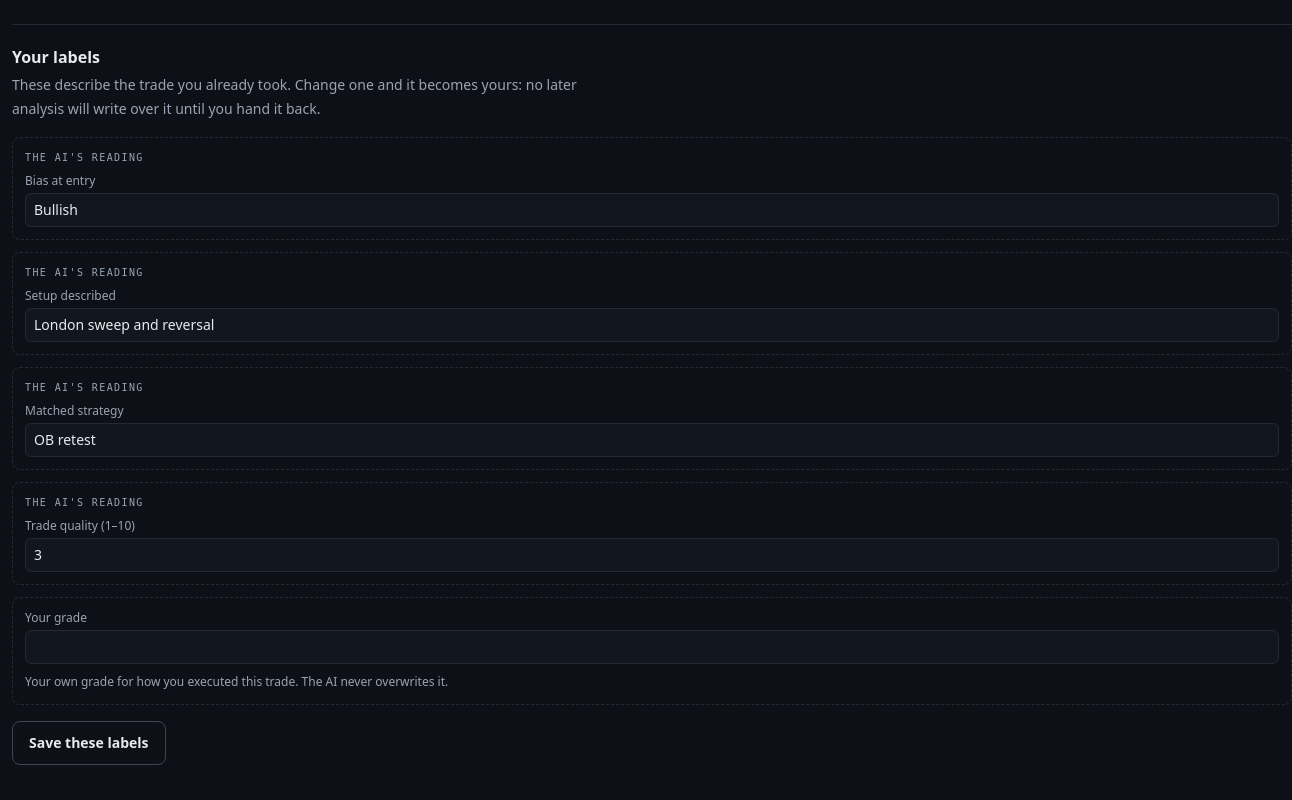
Test: AILabelReview › says a failed save did not go through and keeps every edit
This screenshot has width=1292, height=800.
Replace the text in the field labelled "Bias at entry" with "Bearish": (652,210) [25, 193, 1279, 227]
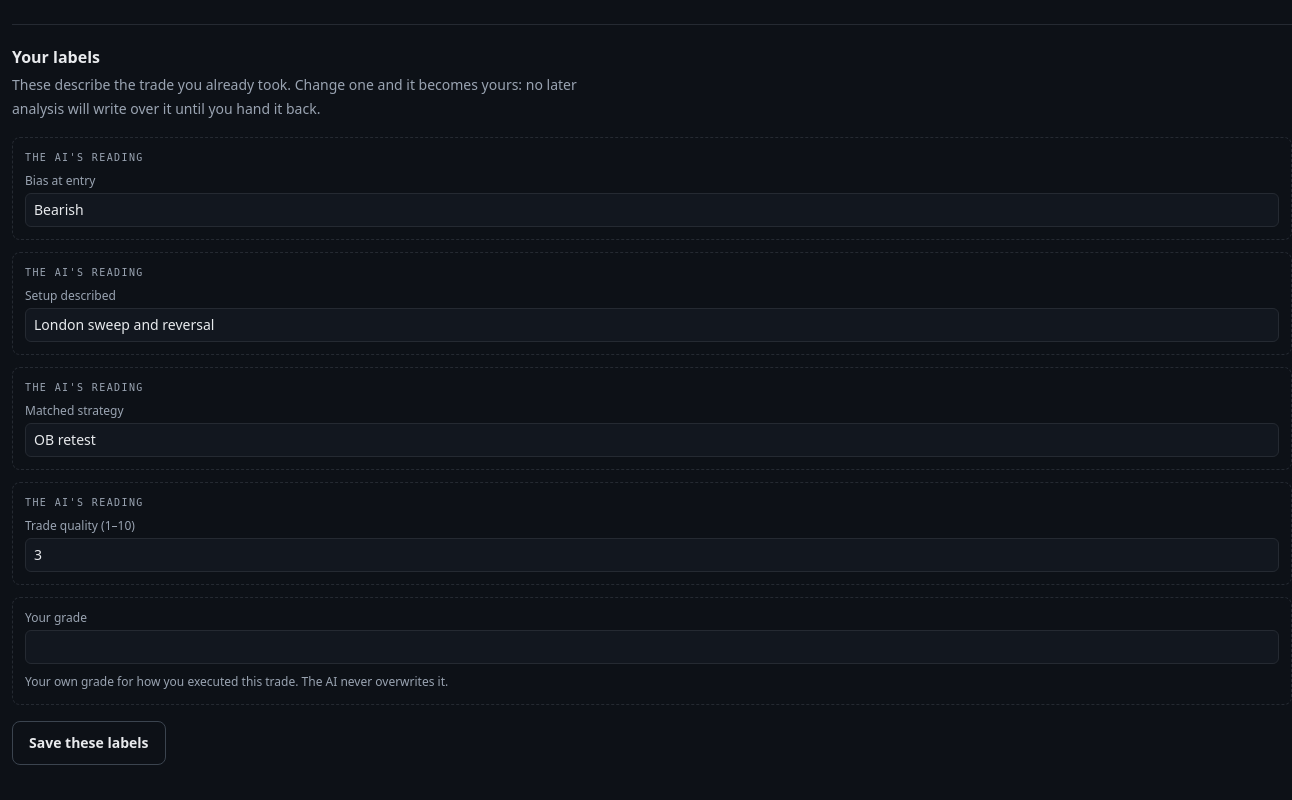
Replace the text in the field labelled "Matched strategy" with "FVG fill": (652,440) [25, 423, 1279, 457]
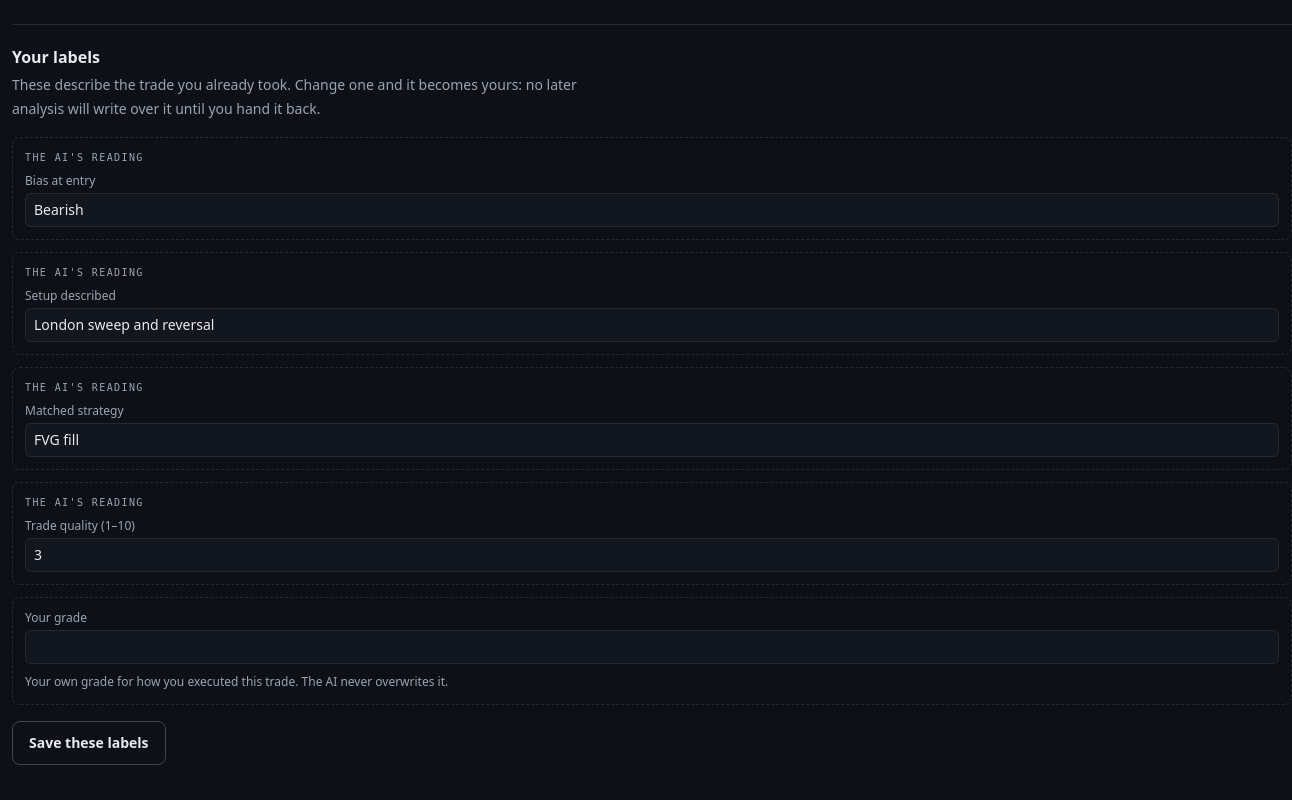
Click the button "Save these labels": (89,743) [12, 721, 166, 765]
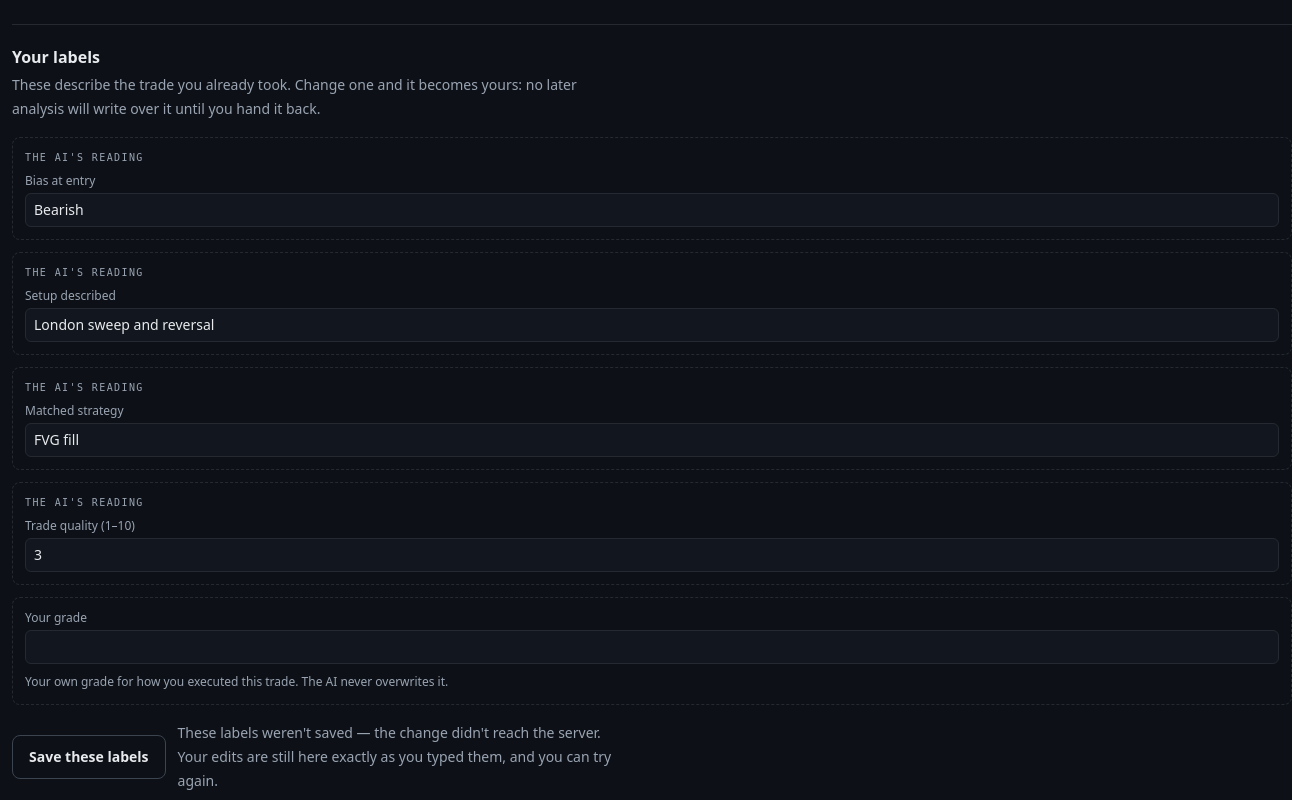
Result: the text "These labels weren't saved" is shown at [178, 723, 611, 790]
